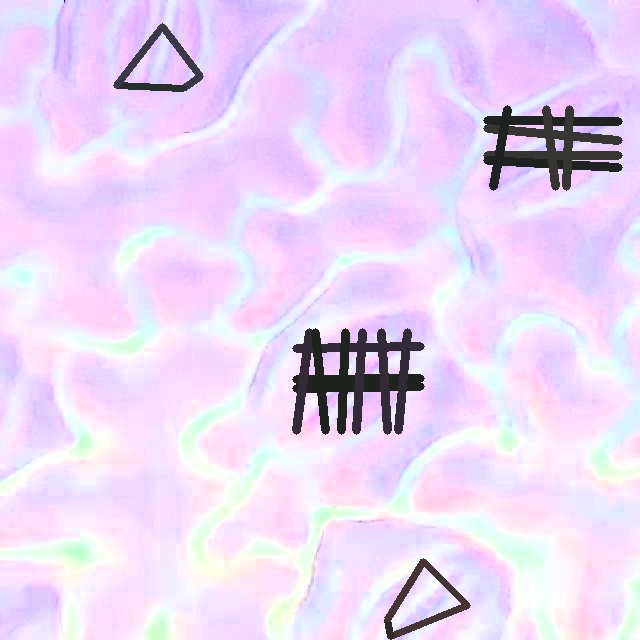open: (293, 328, 423, 433), (483, 105, 622, 190), (384, 558, 470, 639), (114, 23, 202, 90)
